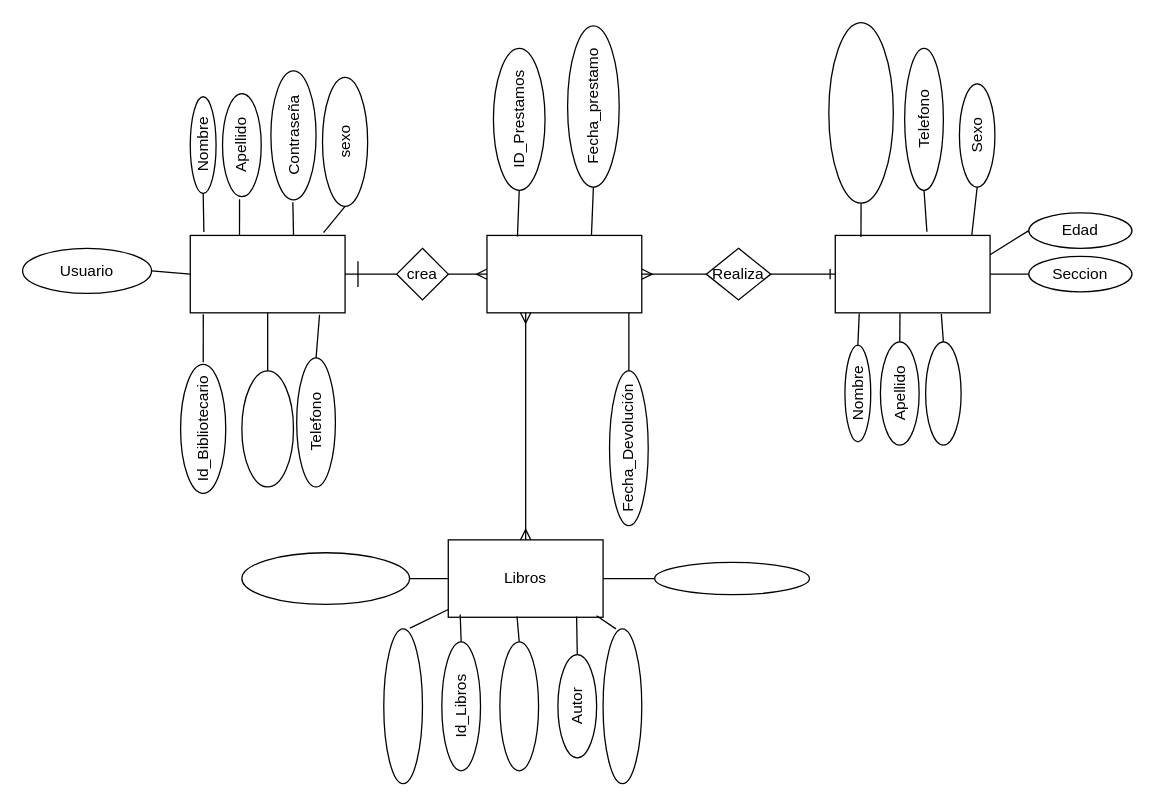
The diagram is 1155 pixels wide and 806 high, and some of its shapes have lost their labels. Here are the shapes that lost their labels. From the top down, the box of each, then its label:
(828, 21, 893, 203): ID_estudiante
(189, 234, 345, 313): Bibliotecario
(486, 234, 642, 313): Prestamos
(834, 234, 990, 313): Estudiante
(924, 341, 961, 445): Año_curso
(241, 370, 293, 487): Correo
(241, 551, 410, 604): Disponiblidad_Libros
(653, 561, 809, 595): Cantidad_Libros
(382, 628, 422, 784): Clasificación
(499, 640, 539, 771): Titulo
(602, 628, 642, 784): Obsevación
